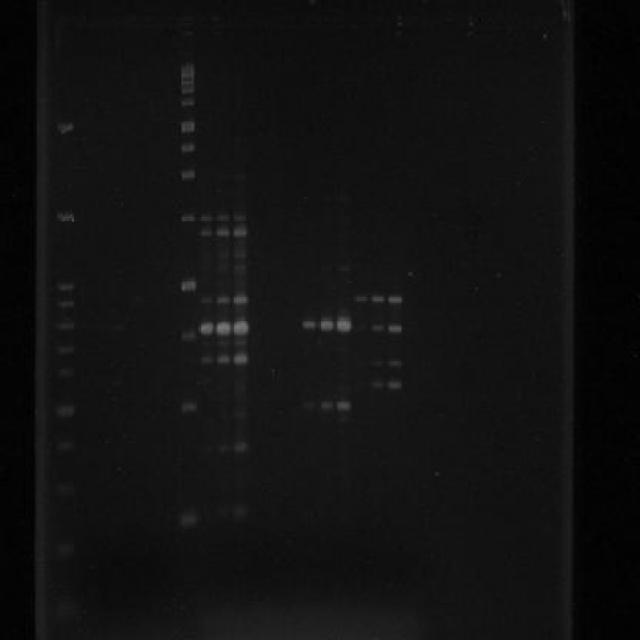B: (335, 310, 353, 336), (232, 314, 250, 340), (230, 503, 248, 522), (318, 315, 336, 333), (232, 439, 250, 456), (216, 319, 232, 338), (198, 320, 216, 336), (299, 317, 318, 332), (318, 398, 336, 413), (232, 292, 248, 308), (214, 352, 232, 366), (214, 294, 231, 308), (300, 398, 317, 412), (336, 398, 352, 412), (216, 441, 230, 457), (232, 262, 248, 276), (234, 351, 248, 366), (232, 225, 248, 238), (386, 322, 402, 335), (214, 227, 232, 238), (200, 352, 214, 366), (387, 378, 402, 391), (370, 378, 384, 391), (388, 294, 403, 306), (232, 249, 248, 260), (198, 227, 213, 238), (370, 294, 386, 304), (232, 212, 246, 223), (200, 296, 214, 307), (354, 294, 369, 304), (198, 214, 214, 223), (336, 264, 352, 273), (387, 358, 401, 368), (216, 213, 230, 222), (370, 323, 384, 332)
M: (47, 105, 84, 633), (175, 58, 200, 534)
P: (52, 594, 82, 628), (51, 538, 80, 564), (51, 476, 77, 498), (50, 118, 78, 138), (53, 399, 78, 419), (52, 434, 77, 452), (53, 206, 76, 225), (52, 338, 76, 356), (53, 314, 76, 332), (53, 277, 76, 294), (53, 294, 76, 310), (179, 512, 199, 528), (54, 366, 76, 380), (180, 62, 196, 80), (180, 278, 197, 292), (180, 402, 198, 415), (180, 120, 196, 134), (180, 331, 198, 342), (180, 141, 194, 154), (181, 169, 196, 180), (180, 212, 196, 222), (180, 99, 194, 108), (180, 86, 194, 94), (180, 80, 194, 86)
